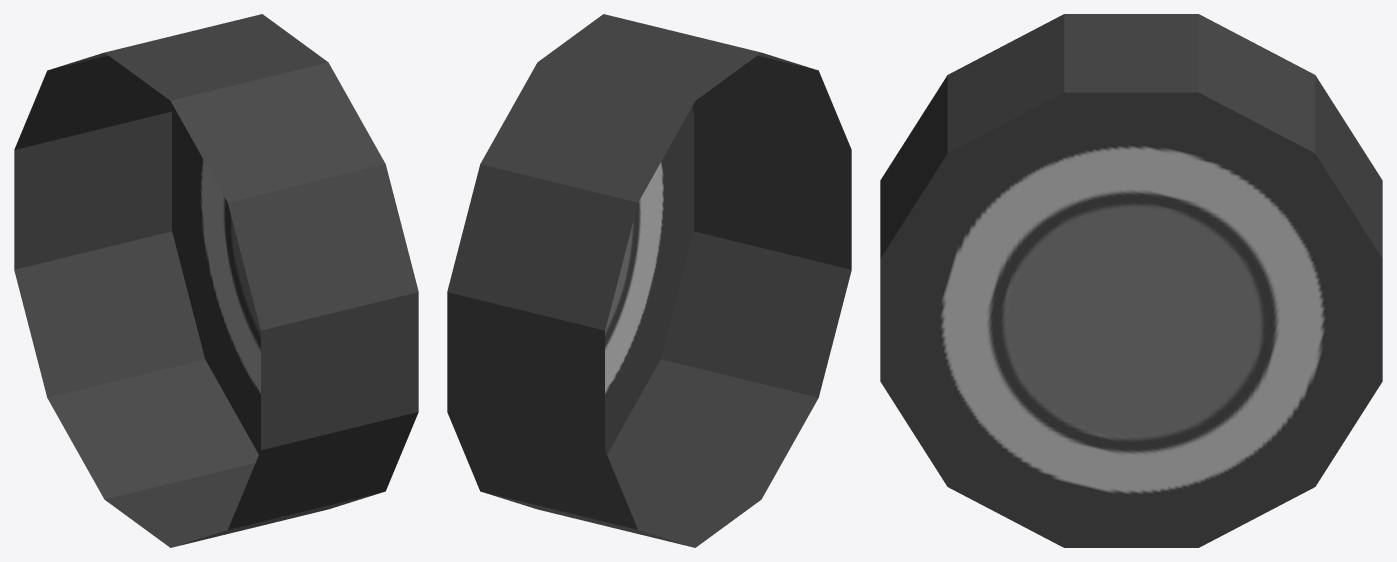
The model's file is Wheel.fbx.
3 views of the same model, side by side, from view 1: azimuth 30°, elevation 25°; view 2: azimuth 150°, elevation 25°; view 3: azimuth 270°, elevation 25° (orthographic).
Visible parts, largest first — view 1: Wheel; view 2: Wheel; view 3: Wheel.
Part boxes in pixels (<box>): Wheel: <box>14,14,418,547</box>; Wheel: <box>447,14,851,547</box>; Wheel: <box>880,14,1382,547</box>.
Size of the model in its own units: 23.62 by 63.89 by 63.89.
